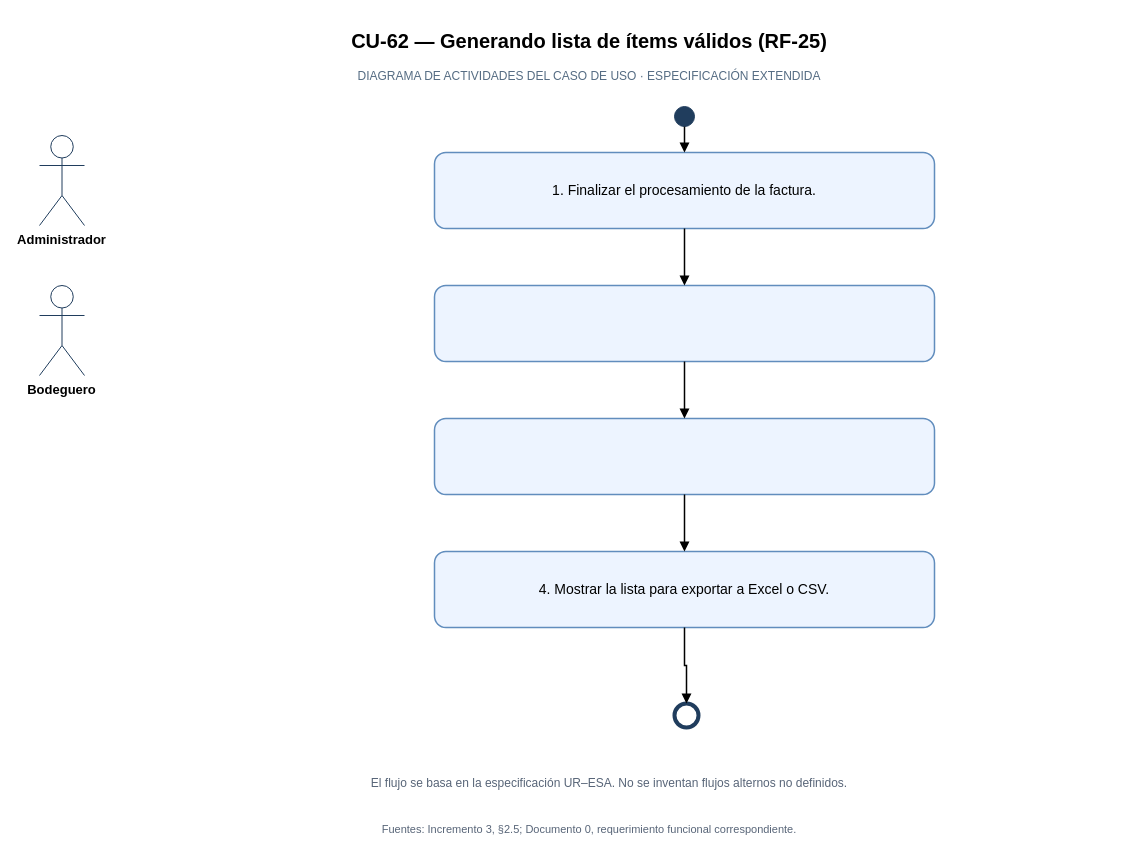
The diagram is 1126 pixels wide and 858 high, and some of its shapes have lost their labels. Here are the shapes that lost their labels. From the top down, the centre of each, then its label:
the point at 684,323: 2. Separar únicamente los ítems en estado Válido.
the point at 684,456: 3. Crear la lista con SKU y cantidad.
